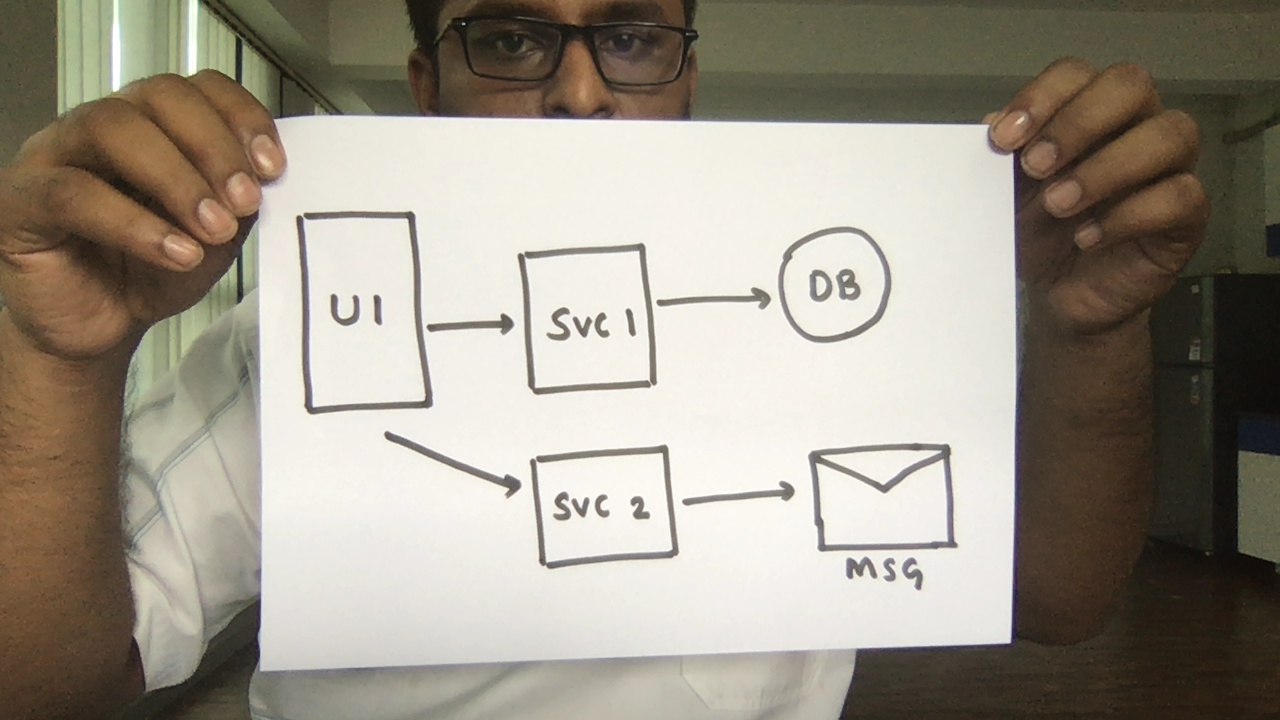arrow: (377, 418, 526, 504), (673, 472, 804, 521), (653, 276, 778, 327), (426, 295, 520, 353)
db: (773, 223, 896, 347)
ec2: (513, 239, 663, 401), (525, 443, 682, 572)
sns: (804, 438, 972, 587)
ui: (292, 209, 440, 418)
